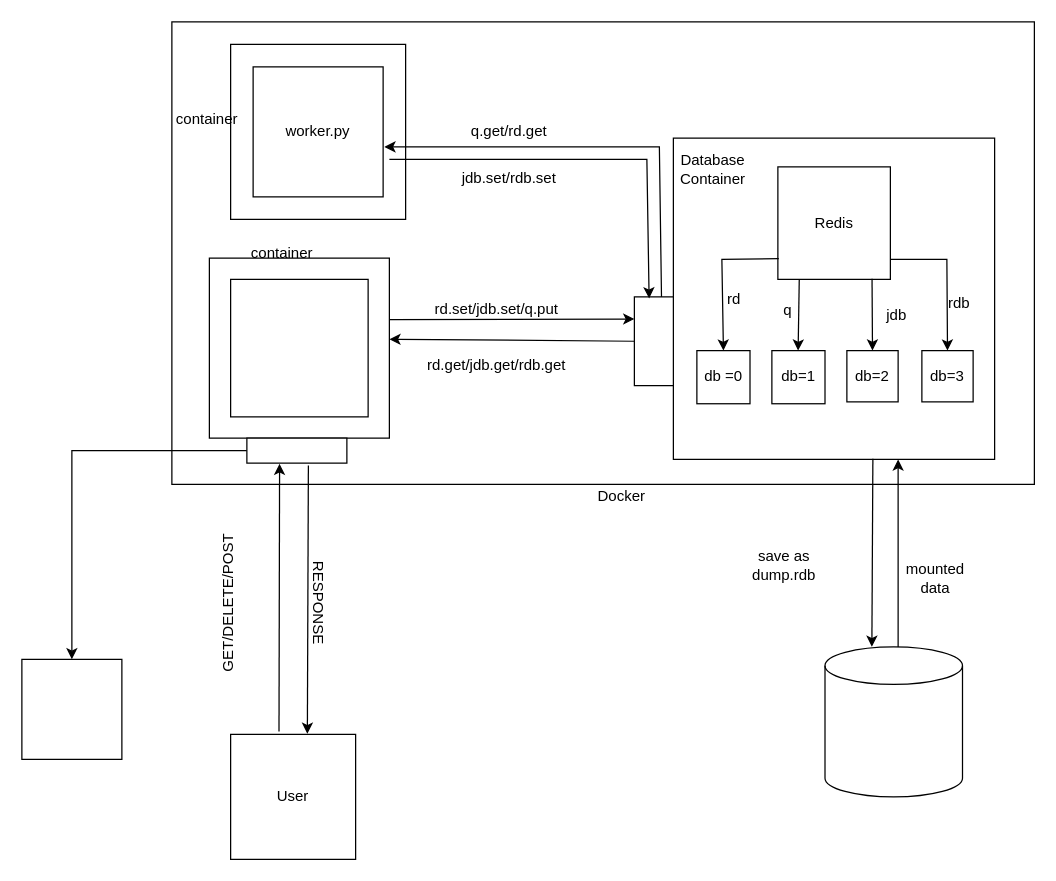
Image size: 1056x881. Some labels were removed from this diagram. Here are the shapes that lost their labels. From the top down, the centre of each, then its label:
At pixel 298 347: "FLASK_APP earthquake_API.py".
At pixel 71 708: "earthquake Database".
At pixel 893 721: "Hard Drive".
